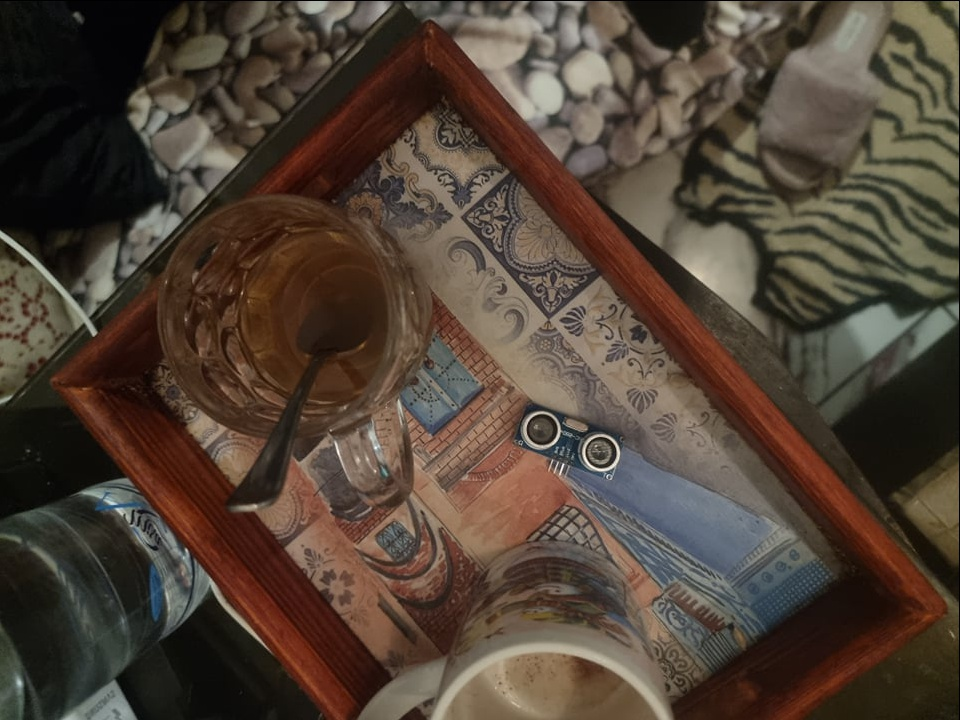SENSOR: (514, 406, 622, 481)
